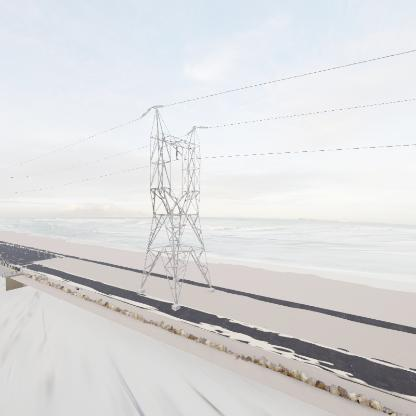tower: (136, 104, 216, 312)
